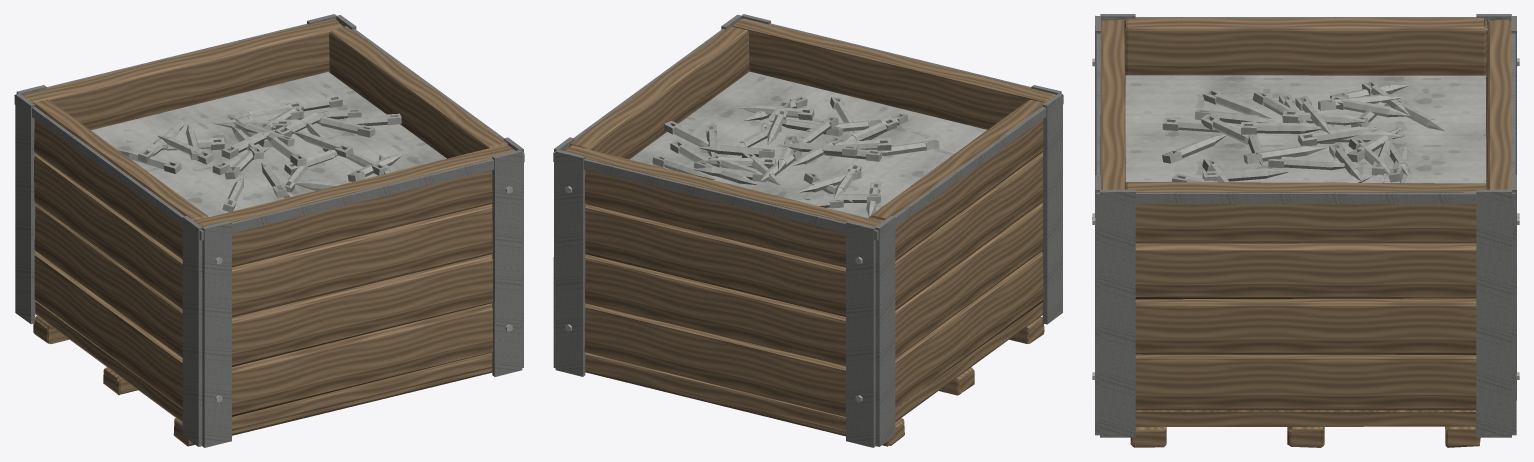
File: needle_bin.glb
3 views of the same model, side by side, from view 1: azimuth 30°, elevation 25°; view 2: azimuth 150°, elevation 25°; view 3: azimuth 270°, elevation 25° (orthographic). The views are drawn at different scales.
Visible parts, largest first — view 1: NeedleBin, NeedleFill; view 2: NeedleBin, NeedleFill; view 3: NeedleBin, NeedleFill.
Part boxes in pixels (x1,y1,x2,y2): NeedleBin: (14, 14, 524, 447); NeedleFill: (91, 72, 446, 217); NeedleBin: (553, 14, 1063, 447); NeedleFill: (630, 71, 986, 218); NeedleBin: (1092, 14, 1519, 447); NeedleFill: (1125, 75, 1486, 183).
Size of the model in its own units: 1.66 by 1.12 by 1.68.
Materials: 3 (3 with a texture image).
